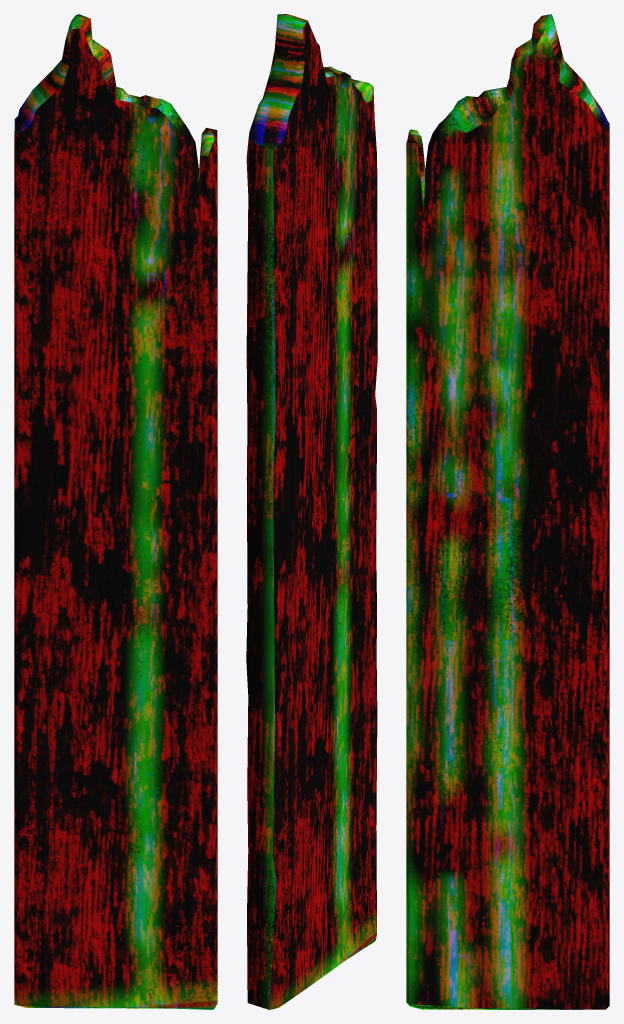
Rendered from SM_BrokenPlanks_2.fbx.
The picture shows the model from 3 angles, left to right: view 1: azimuth 90°, elevation 25°; view 2: azimuth 150°, elevation 25°; view 3: azimuth 270°, elevation 25°; orthographic projection.
Visible parts, largest first — view 1: SM_BrokenPlanks_2_LOD0; view 2: SM_BrokenPlanks_2_LOD0; view 3: SM_BrokenPlanks_2_LOD0.
Boxes of the visible parts, x1,y1,x2,y2 form: SM_BrokenPlanks_2_LOD0: [14, 14, 217, 1009]; SM_BrokenPlanks_2_LOD0: [246, 14, 377, 1009]; SM_BrokenPlanks_2_LOD0: [406, 14, 609, 1009].
Bounding box in the file's own units: 7.13 × 38.04 × 203.
